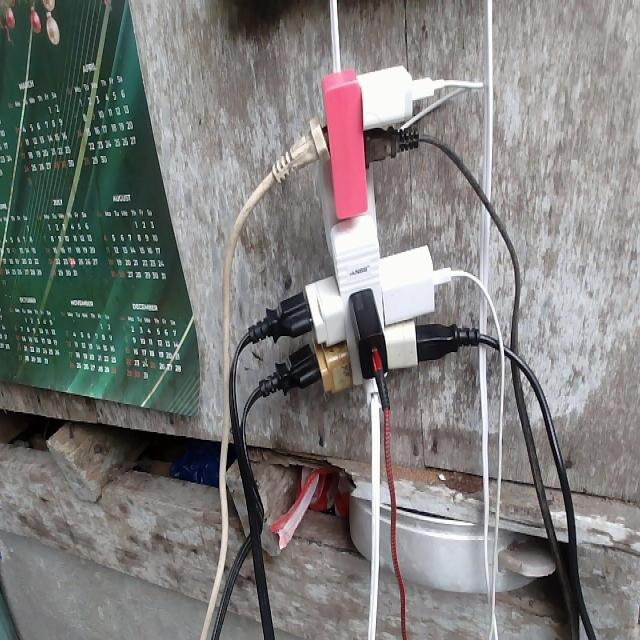-: (222, 65, 512, 423)
